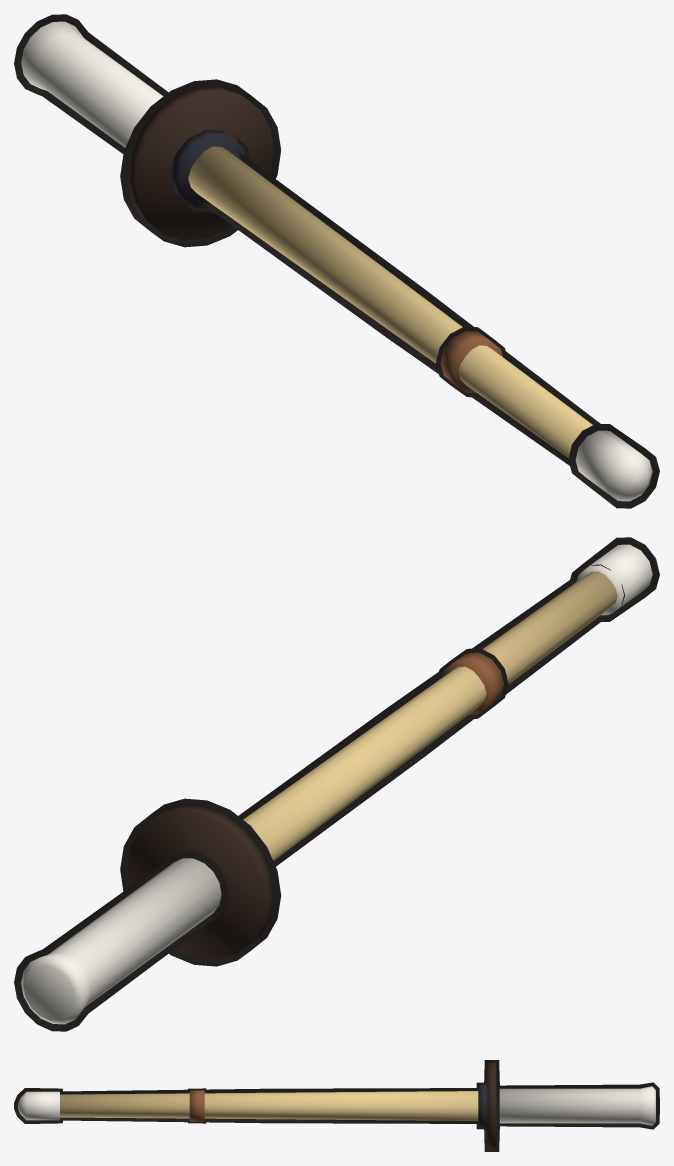
Rendered from shinai-samurai.glb.
The picture shows the model from 3 angles, top to bottom: view 1: azimuth 30°, elevation 25°; view 2: azimuth 150°, elevation 25°; view 3: azimuth 270°, elevation 25°; orthographic projection. The views are drawn at different scales.
Visible parts, largest first — view 1: Toy_Samurai_Shinai, Toy_Samurai_Shinai_Line; view 2: Toy_Samurai_Shinai, Toy_Samurai_Shinai_Line; view 3: Toy_Samurai_Shinai, Toy_Samurai_Shinai_Line.
Boxes of the visible parts, x1=… form: Toy_Samurai_Shinai: x1=21, y1=21, x2=652, y2=501; Toy_Samurai_Shinai_Line: x1=14, y1=14, x2=659, y2=508; Toy_Samurai_Shinai: x1=21, y1=544, x2=652, y2=1024; Toy_Samurai_Shinai_Line: x1=14, y1=537, x2=659, y2=1031; Toy_Samurai_Shinai: x1=18, y1=1063, x2=655, y2=1148; Toy_Samurai_Shinai_Line: x1=14, y1=1060, x2=659, y2=1151.
Size of the model in its own units: 0.1846 by 0.1846 by 1.29.
